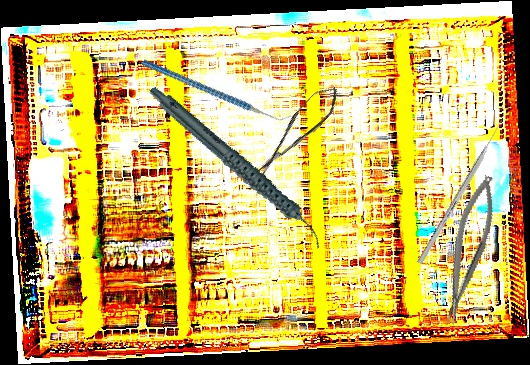Chopper: (140, 16, 294, 163)
Handpiece: (147, 57, 327, 277)
Micro Scissor: (245, 79, 347, 184)
Needle Holder: (430, 171, 506, 328)
Pusher: (417, 117, 506, 265)
